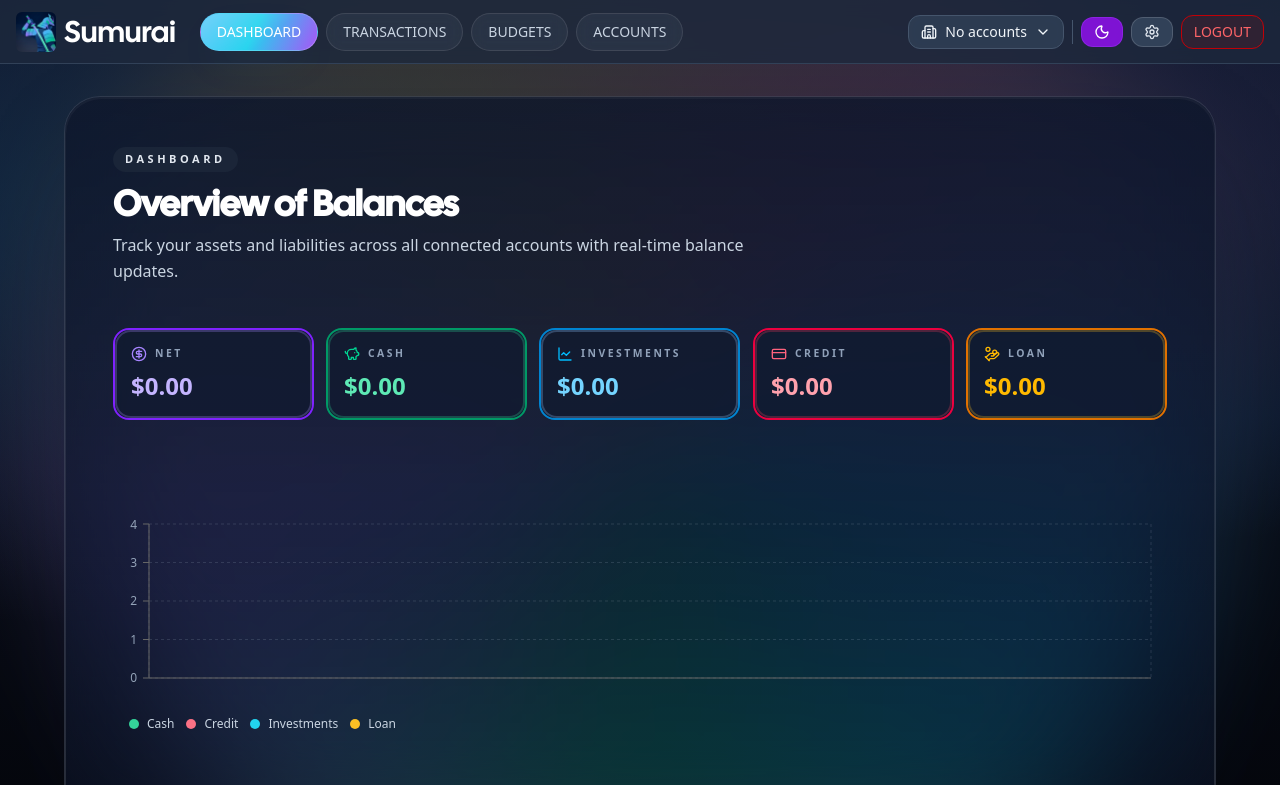
User-Friendly Error Messages and Empty States (Boundary Mocks) › Graceful Degradation › continues showing partial data when some services fail
Click the button "Transactions": (395, 32) [326, 13, 463, 51]
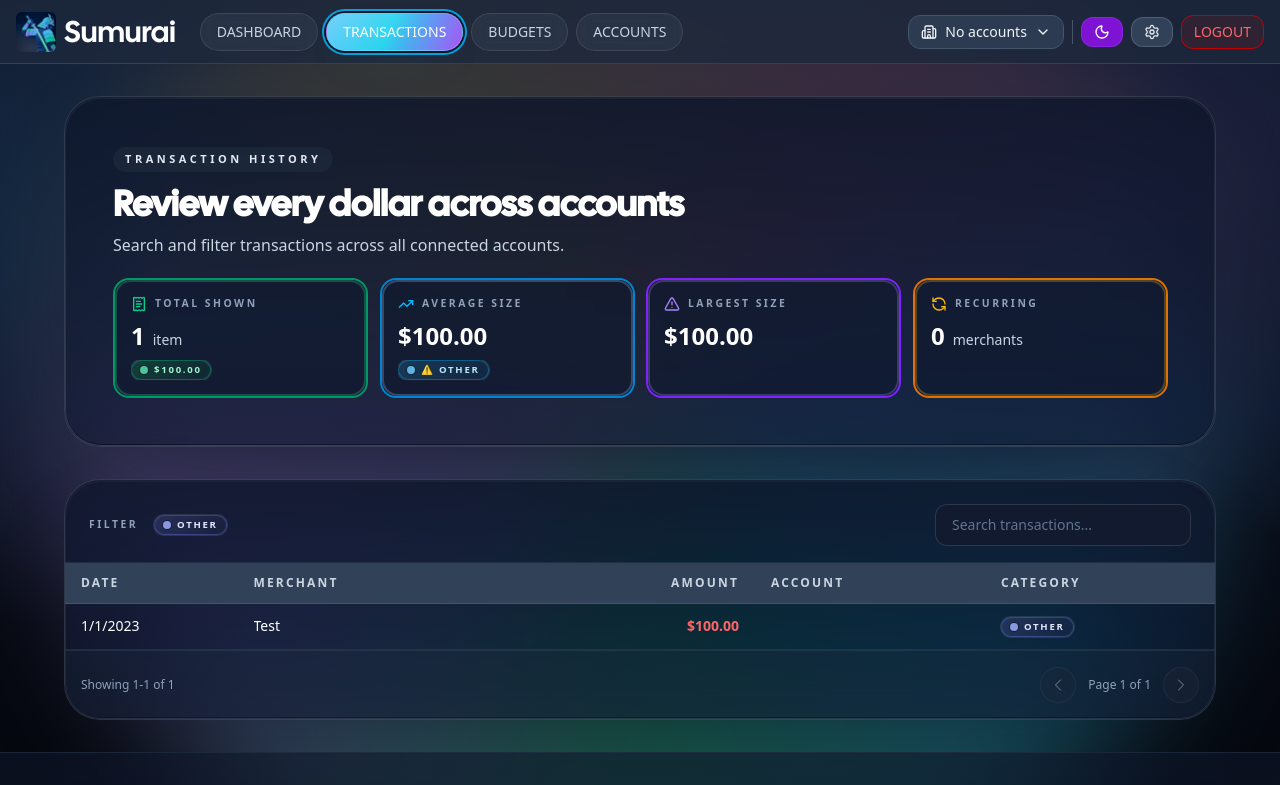
Check: the text "Test" is shown, box [254, 616, 280, 635]
